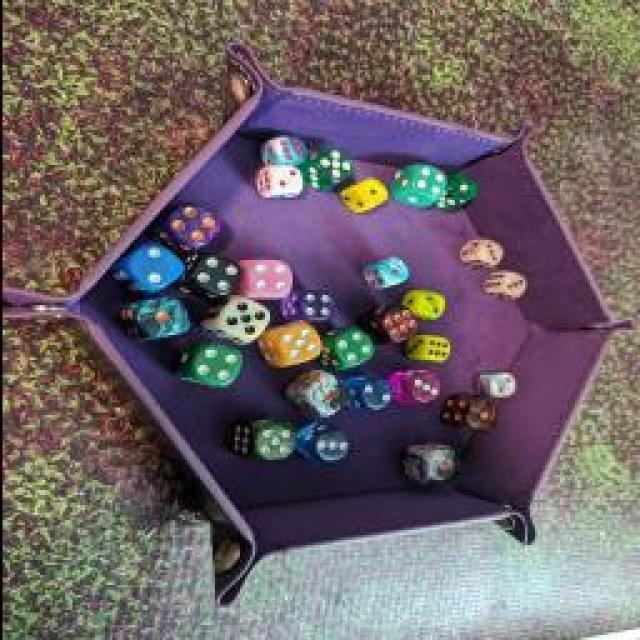dice_1: (121, 295, 194, 350), (282, 366, 352, 419), (440, 389, 498, 439), (396, 438, 456, 484), (306, 328, 374, 368), (336, 176, 386, 216), (429, 170, 476, 210), (356, 254, 412, 286)
dice_2: (106, 240, 186, 295), (246, 165, 306, 207), (338, 375, 392, 415), (402, 287, 448, 325), (469, 366, 519, 396)
dice_3: (285, 421, 350, 464), (385, 368, 445, 408), (453, 238, 505, 272), (479, 268, 526, 302)
dice_4: (174, 338, 244, 390), (176, 249, 246, 299), (150, 202, 225, 248), (390, 160, 445, 210), (281, 284, 339, 324), (239, 254, 289, 298)
dice_5: (222, 416, 298, 466), (206, 295, 269, 350), (254, 322, 328, 366), (298, 144, 352, 194)
dice_6: (362, 306, 418, 346), (262, 132, 308, 168), (405, 334, 453, 364)
